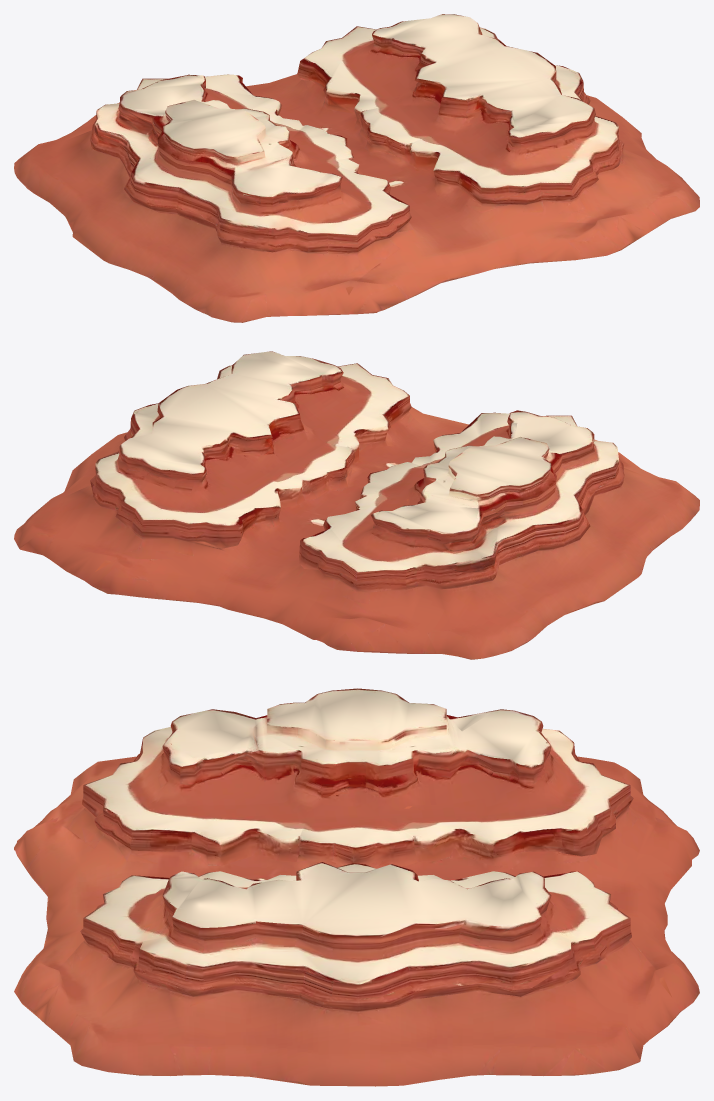
The model's file is mountains_desert.glb.
3 renders of one model, top to bottom at view 1: azimuth 30°, elevation 25°; view 2: azimuth 150°, elevation 25°; view 3: azimuth 270°, elevation 25°, orthographic. The views are drawn at different scales.
Visible parts, largest first — view 1: 0; view 2: 0; view 3: 0.
Boxes of the visible parts, x1,y1,x2,y2 form: 0: (14,14,699,322); 0: (14,351,699,659); 0: (14,688,699,1086).
Size of the model in its own units: 1.9 by 0.317 by 1.66.
1 material, 1 textured.
